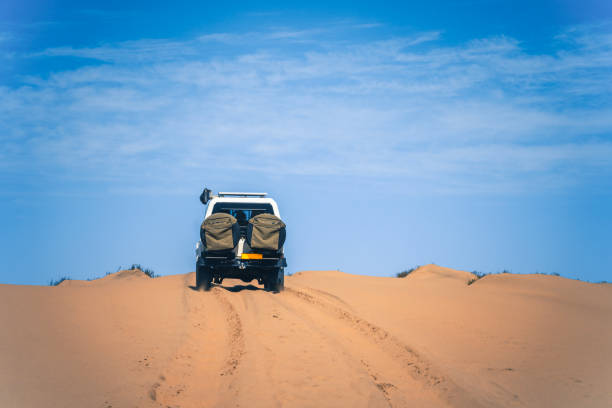vehicle_track: (149, 285, 479, 407), (285, 287, 480, 406), (219, 287, 391, 406), (219, 287, 387, 406), (286, 288, 442, 384), (270, 296, 392, 406), (274, 298, 394, 406), (148, 276, 243, 406), (148, 274, 206, 406), (211, 287, 243, 375), (361, 359, 395, 406), (307, 287, 351, 308)
